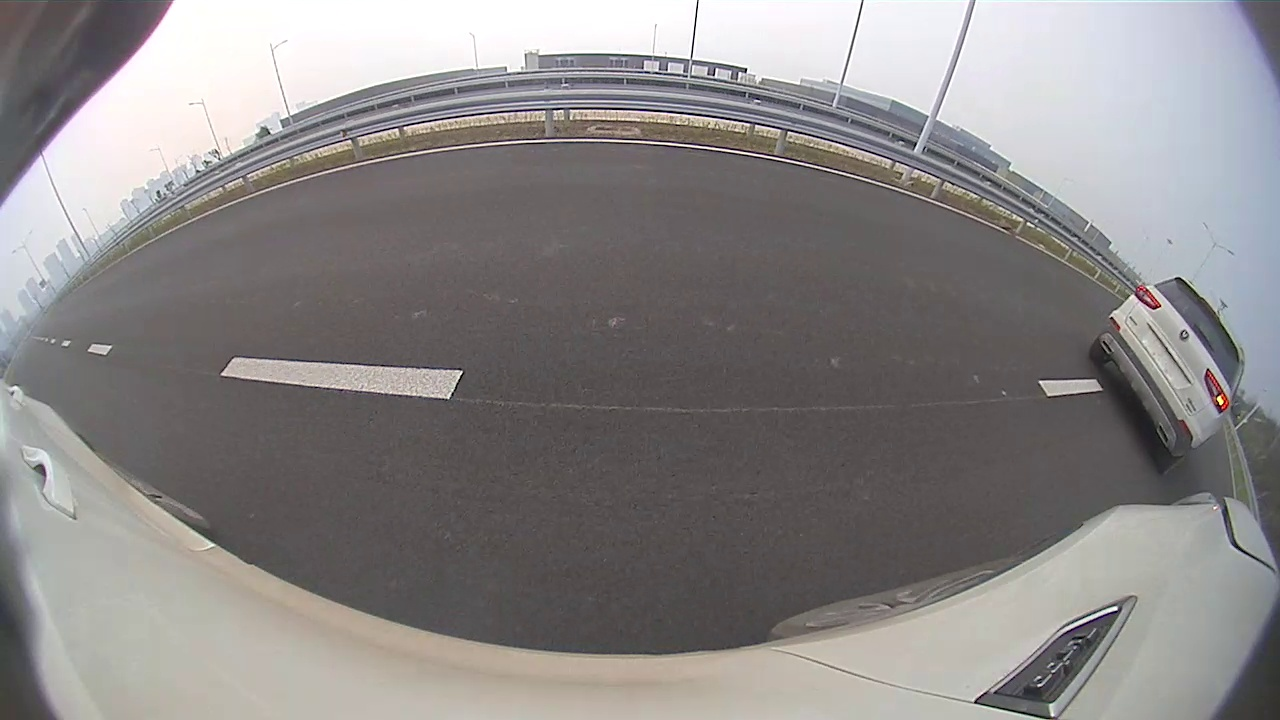car: (1088, 276, 1245, 474)
